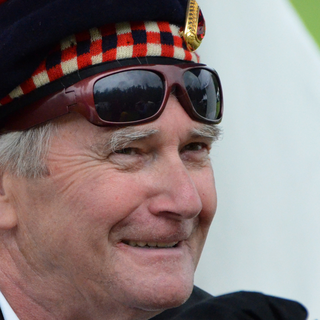eye: (101, 140, 152, 164), (176, 134, 216, 160)
